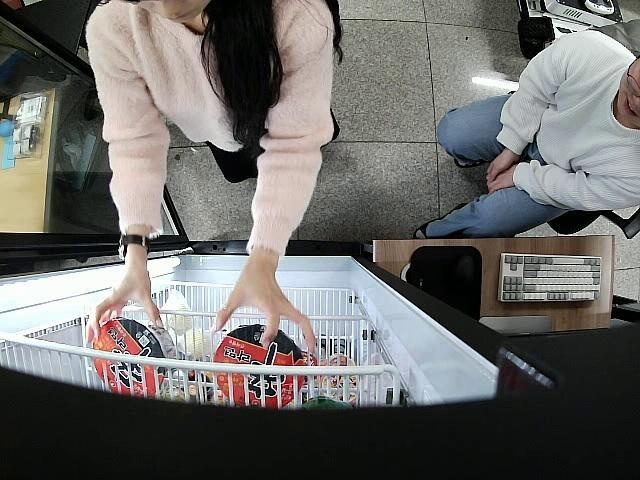01_ShinRamen_L: (212, 324, 306, 410), (94, 318, 178, 403)
